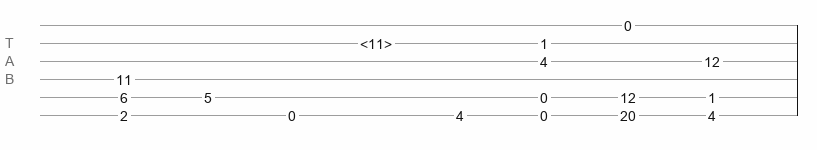0: (288, 108, 296, 118), (540, 108, 548, 118), (540, 90, 548, 100), (624, 18, 632, 28)
1: (540, 36, 548, 46), (708, 90, 716, 100)
11: (116, 72, 132, 82)
12: (620, 90, 636, 100), (704, 54, 720, 64)
2: (120, 108, 128, 118)
20: (620, 108, 636, 118)
4: (456, 108, 464, 118), (540, 54, 548, 64), (708, 108, 716, 118)
5: (204, 90, 212, 100)
6: (120, 90, 128, 100)
harmonic: (360, 36, 392, 46)
